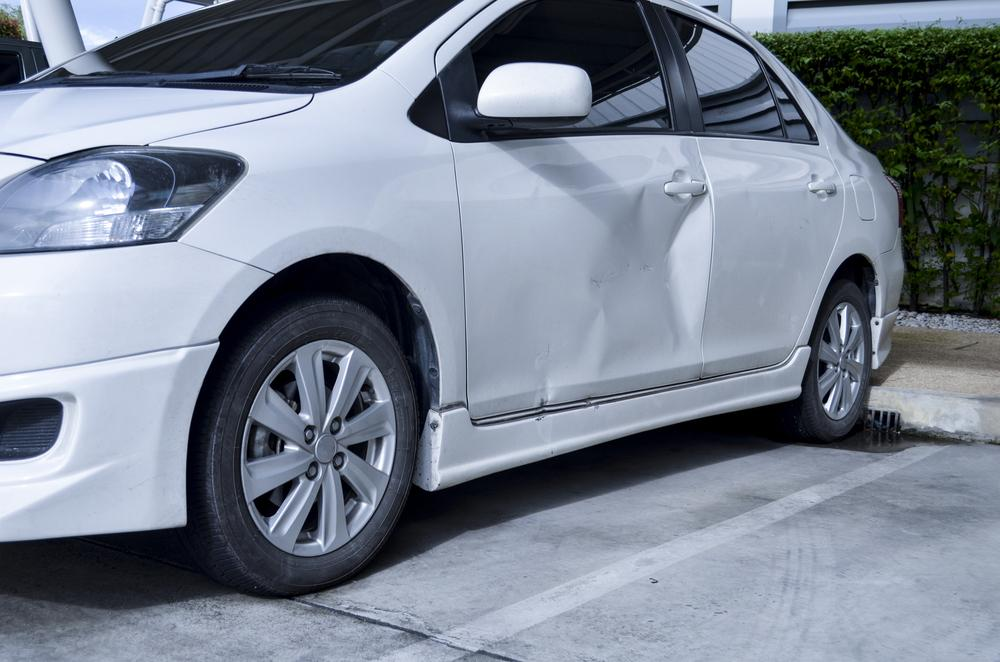dent: (487, 183, 710, 404)
